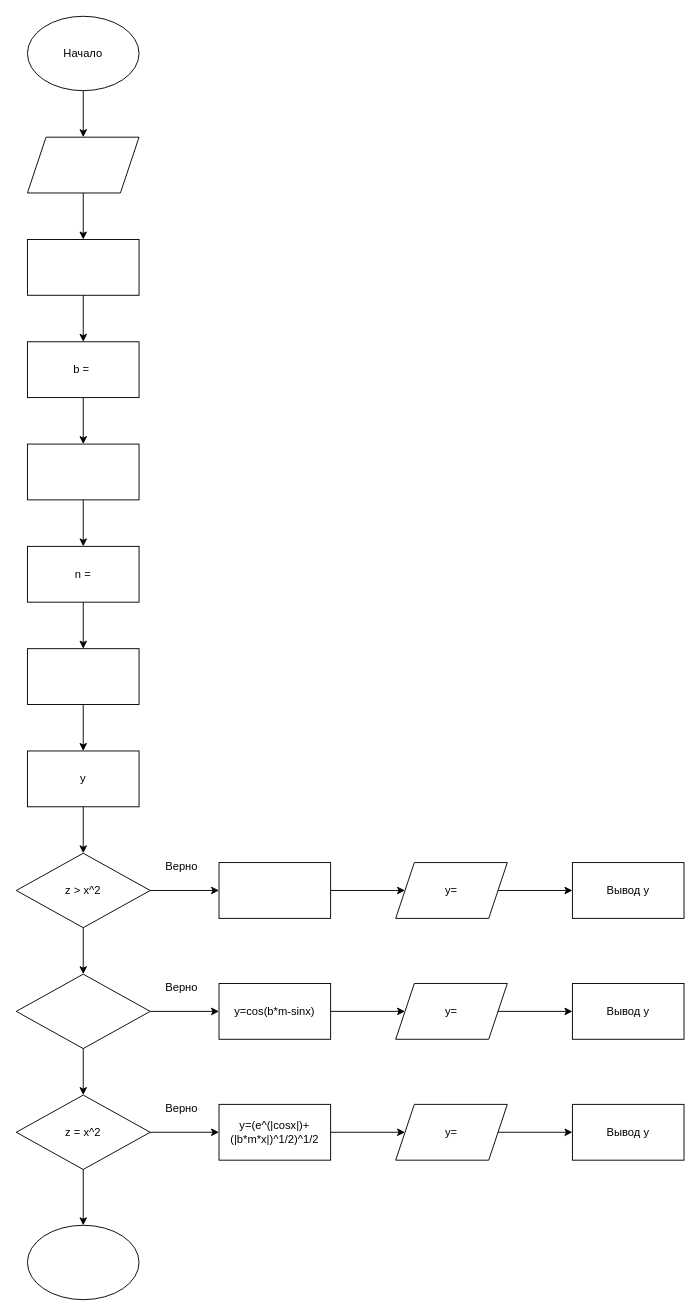
This 700x1316 diagram has some shape labels left out. The centre of each missing label's shape, as x and y in pixels:
"Введите x: ": (x=83, y=164)
m =: (x=83, y=471)
y=sin(b*m+cos(n*x)): (x=274, y=890)
z < x^2: (x=82, y=1011)
z = |b*m|: (x=83, y=676)
Ввод x: (x=83, y=267)
Конец: (x=83, y=1262)
